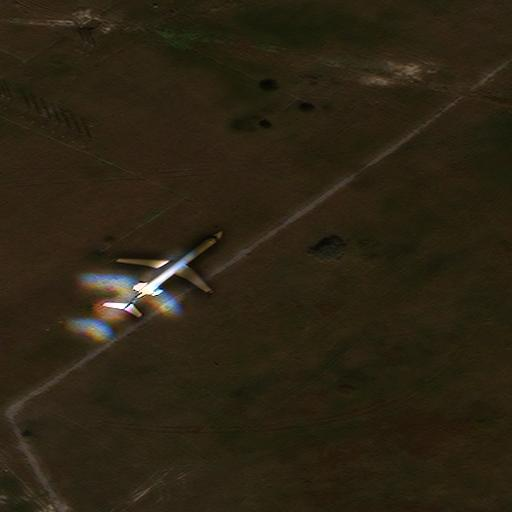Medium Civil Transport: (118, 231, 222, 310)
